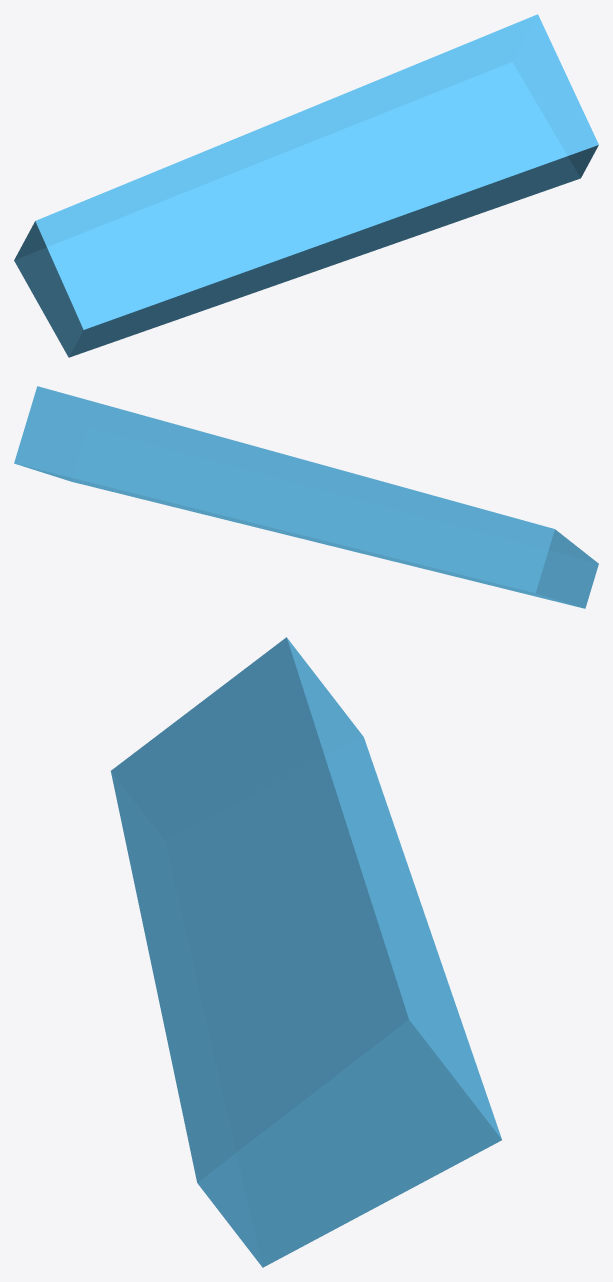
Rendered from Event_421115418_HErechit_120.fbx.
3 renders of one model, top to bottom at view 1: azimuth 30°, elevation 25°; view 2: azimuth 150°, elevation 25°; view 3: azimuth 270°, elevation 25°, orthographic. The views are drawn at different scales.
Parts seen in each view (by area): view 1: Model; view 2: Model; view 3: Model.
Boxes of the visible parts, x1,y1,x2,y2 form: Model: [14, 14, 598, 357]; Model: [14, 386, 598, 608]; Model: [111, 637, 501, 1267].
Size of the model in its own units: 2.3 by 0.6674 by 0.797.
